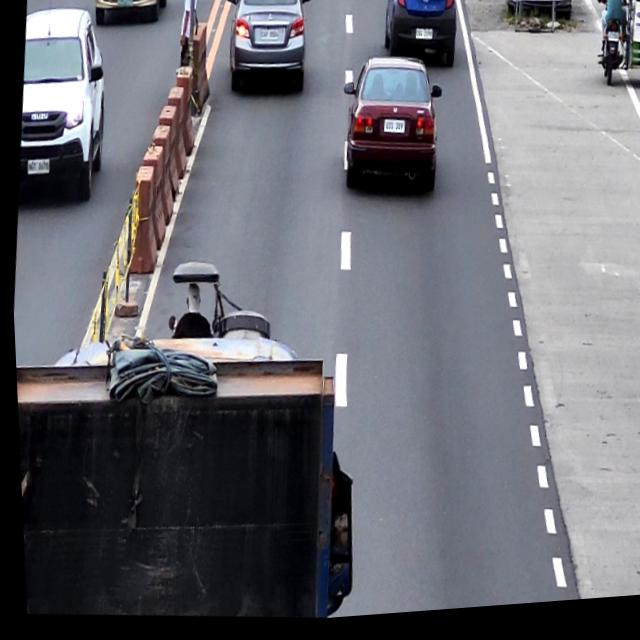Car: (335, 62, 437, 212), (221, 0, 309, 97), (377, 0, 457, 76)
License-Plate: (380, 120, 406, 143), (257, 30, 279, 46), (413, 33, 433, 49)
Truck: (12, 335, 343, 639)
